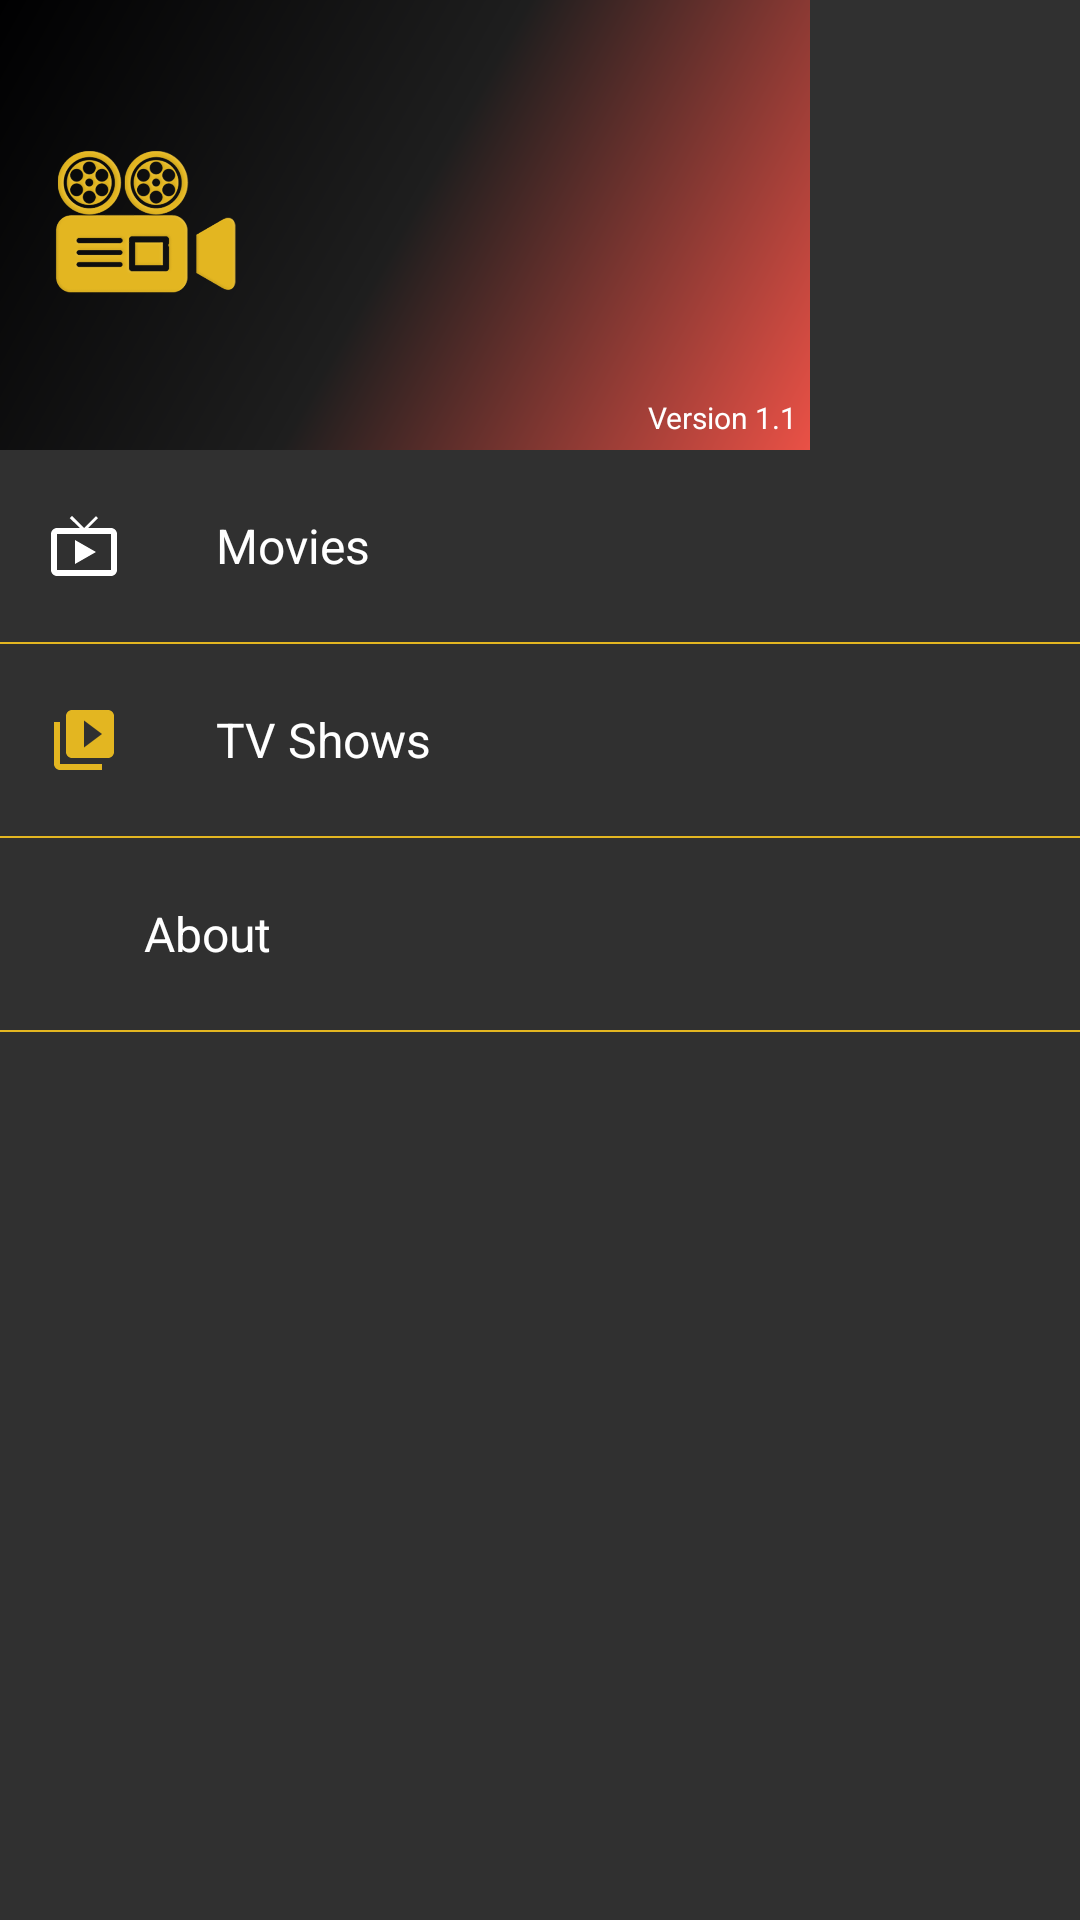

Icons on this 1080px×1920px Android screen, each with its box as (x1, y1, x2, y2):
live tv: (51, 516, 117, 576)
